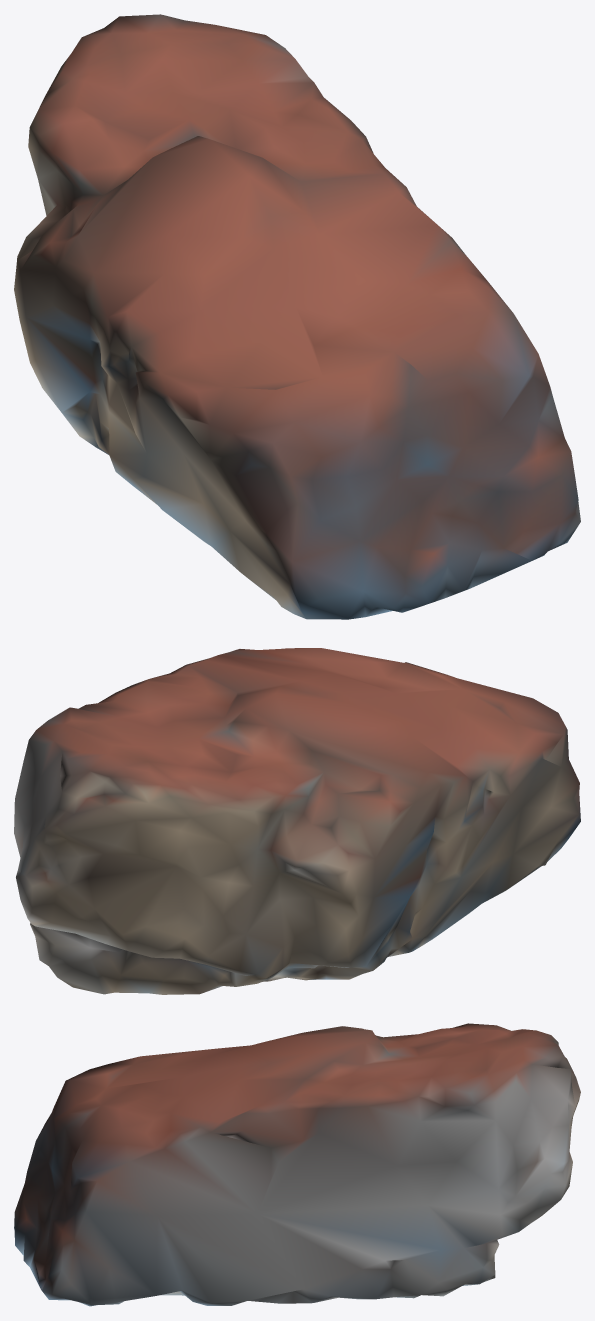
File: rock_07.glb
The picture shows the model from 3 angles, top to bottom: view 1: azimuth 30°, elevation 25°; view 2: azimuth 150°, elevation 25°; view 3: azimuth 270°, elevation 25°; orthographic projection. The views are drawn at different scales.
Visible parts, largest first — view 1: rock_07; view 2: rock_07; view 3: rock_07.
Part boxes in pixels (x1,y1,x2,y2): rock_07: (14,14,580,619); rock_07: (14,648,580,994); rock_07: (14,1023,580,1306).
Size of the model in its own units: 0.1675 by 0.1419 by 0.3203.
